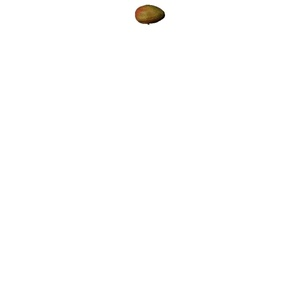mamão: (131, 3, 167, 27)
